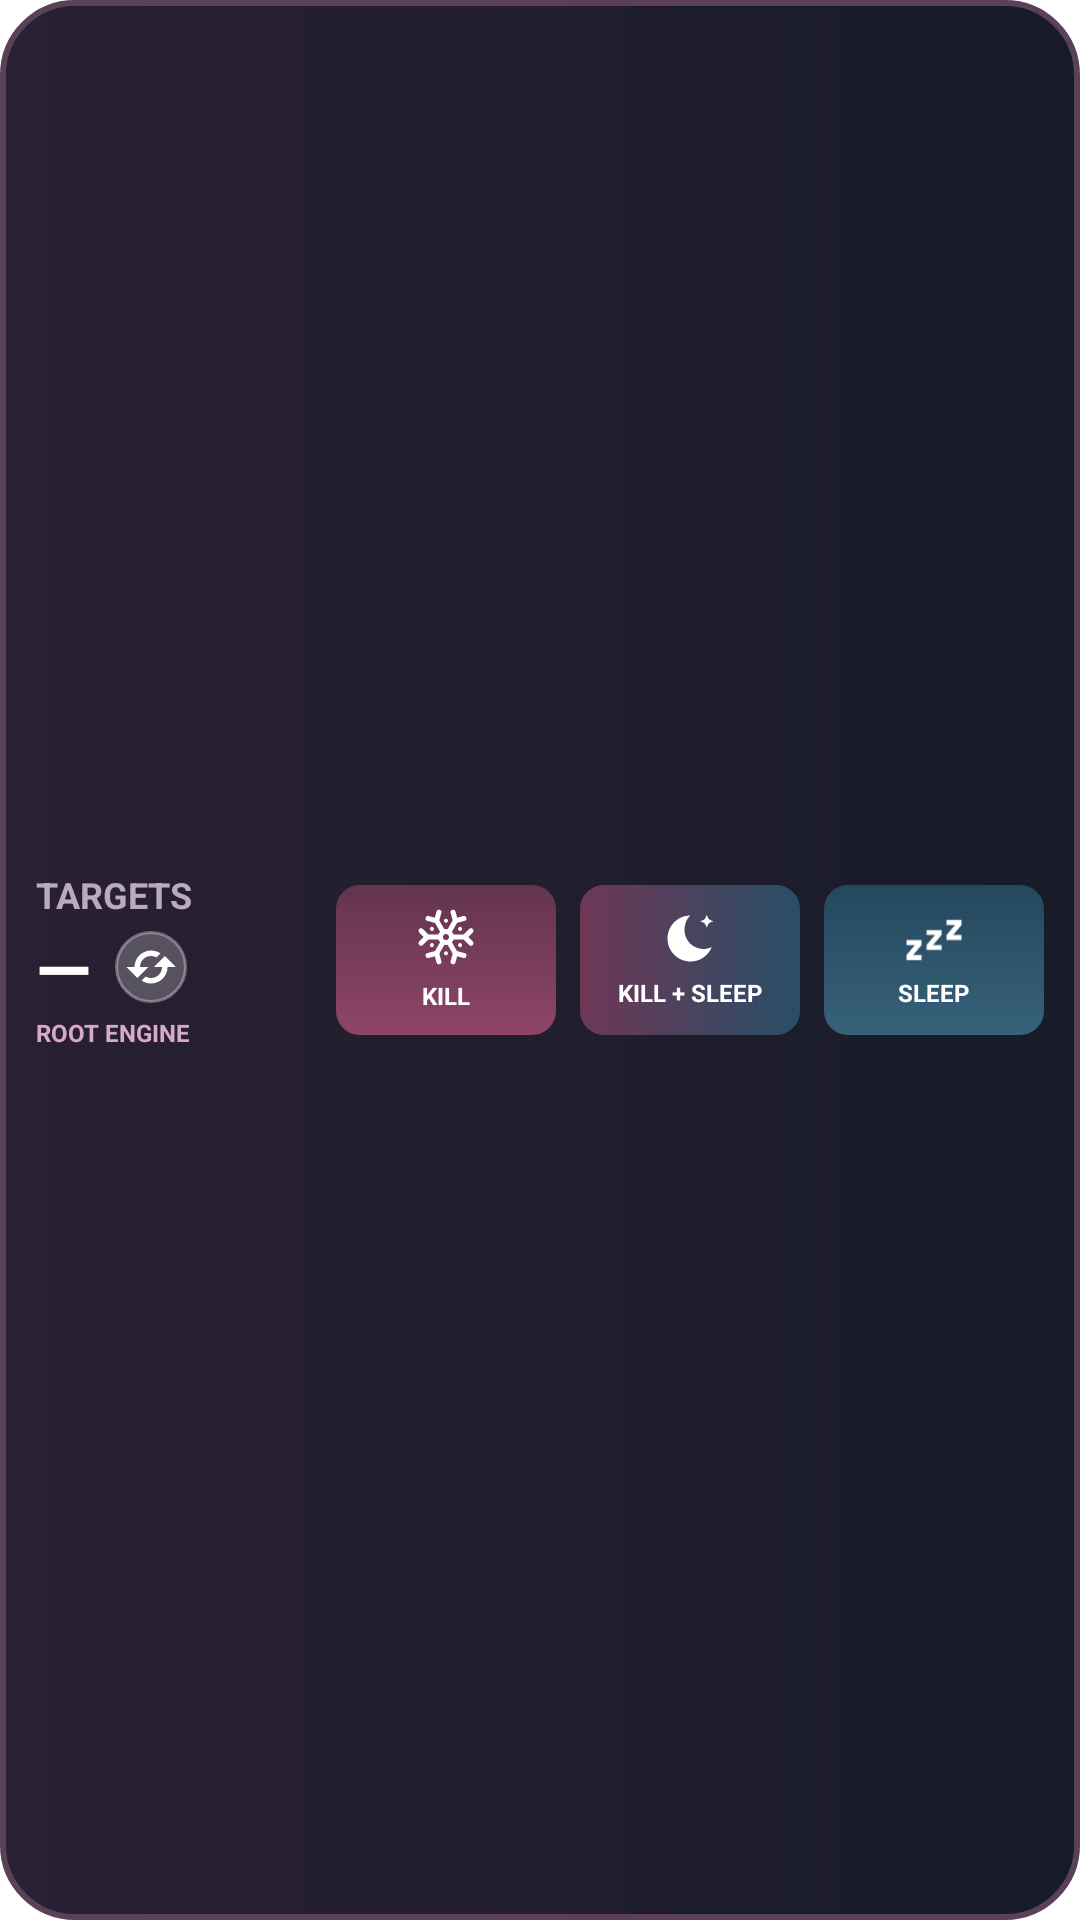

Where icons sit on this 1080*1920 app screen, as (x1, y1, x2, y2):
snow: (416, 907, 476, 965)
widget refresh: (118, 934, 184, 1000)
